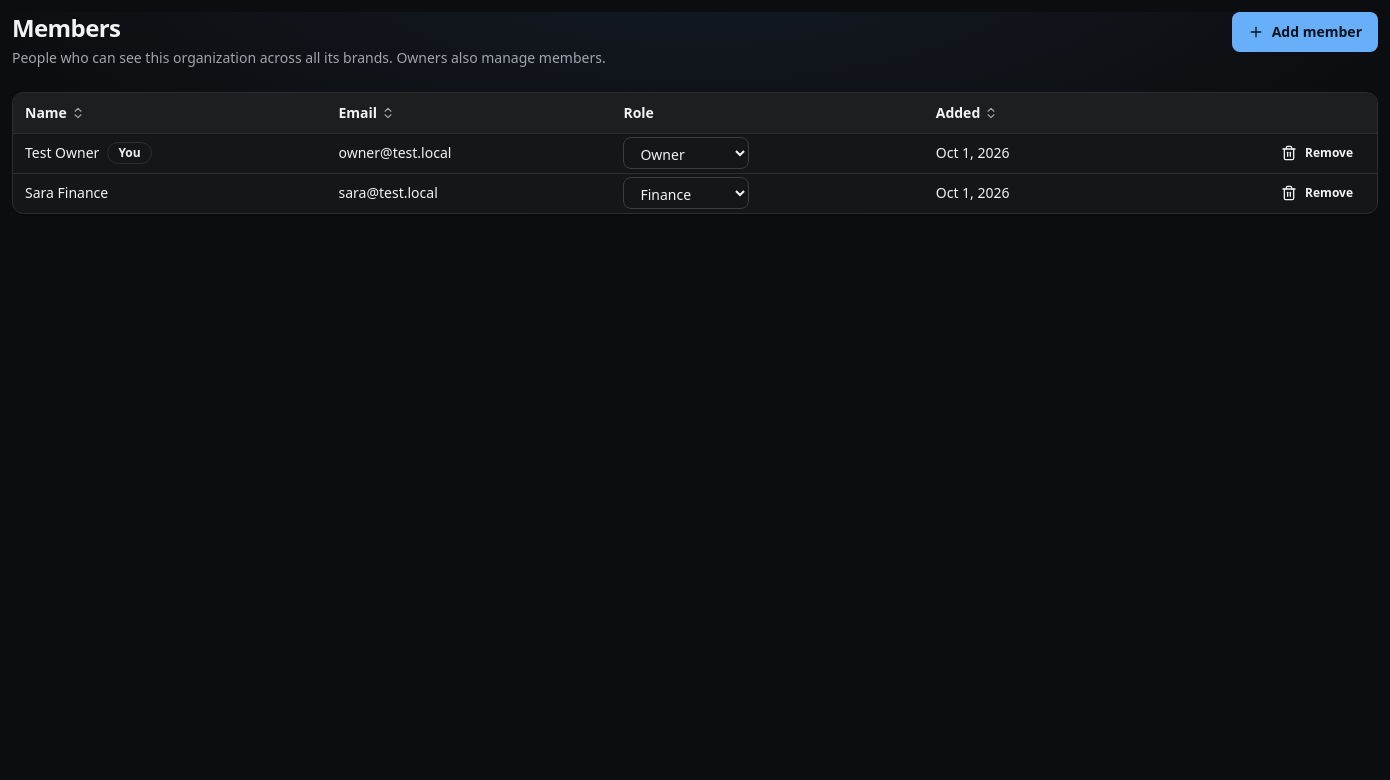
Scenario: organization members page › changes a role
This screenshot has width=1390, height=780.
Select "Manager" in the dropdown named "Role of Sara Finance": coordinates (686, 193) [623, 177, 749, 209]
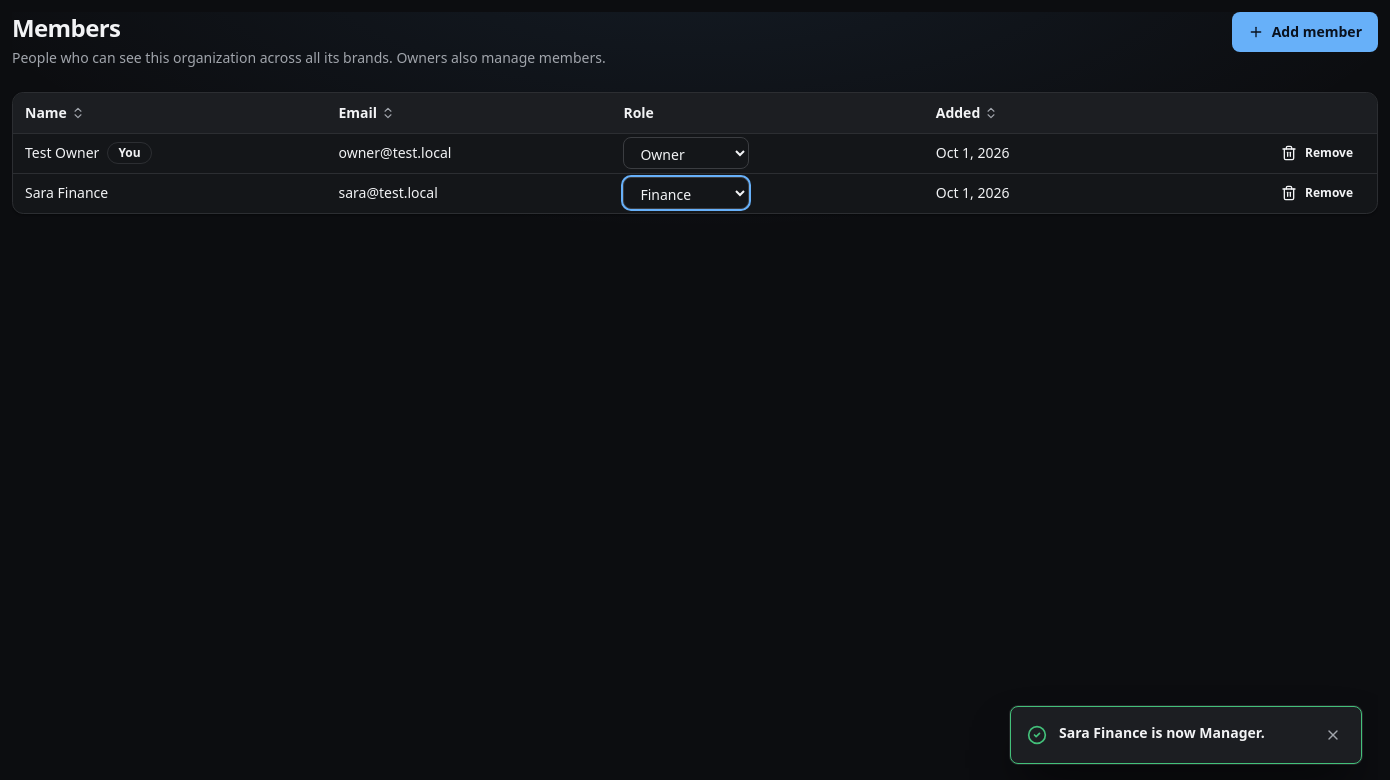
Expected: the text "Sara Finance is now Manager." is shown, [1059, 723, 1265, 742]
